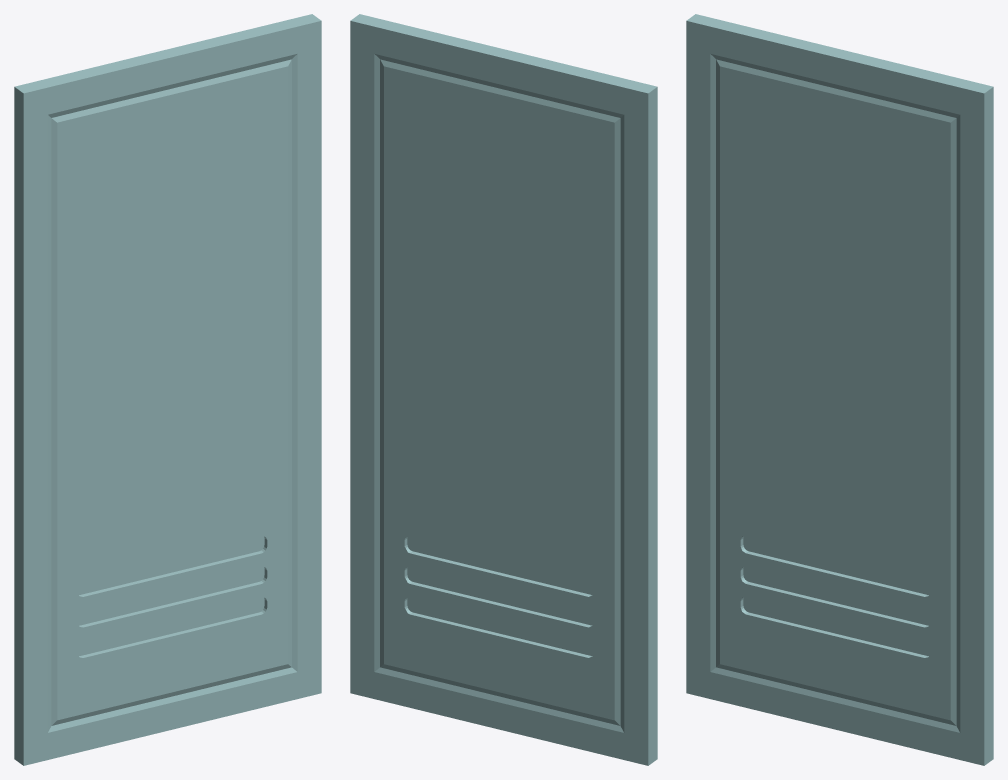
Rendered from Puerta.fbx.
The picture shows the model from 3 angles, left to right: view 1: azimuth 30°, elevation 25°; view 2: azimuth 150°, elevation 25°; view 3: azimuth 330°, elevation 25°; orthographic projection.
Parts seen in each view (by area): view 1: 05. gerbang007; view 2: 05. gerbang007; view 3: 05. gerbang007.
Boxes of the visible parts, <box> form: 05. gerbang007: <box>14,14,321,765</box>; 05. gerbang007: <box>350,14,657,765</box>; 05. gerbang007: <box>686,14,993,765</box>.
Bounding box in the file's own units: 0.5691 × 1.23 × 0.0307.
